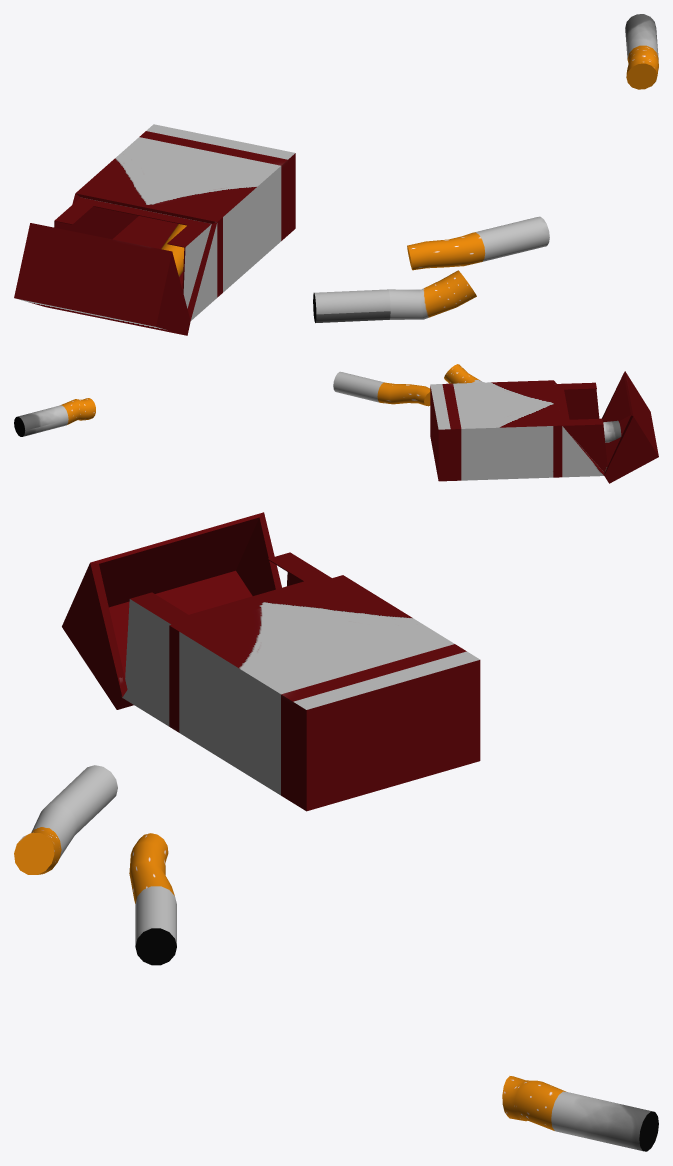
The model's file is tupakat.fbx.
3 views of the same model, one above another, from view 1: azimuth 30°, elevation 25°; view 2: azimuth 150°, elevation 25°; view 3: azimuth 270°, elevation 25° (orthographic). The views are drawn at different scales.
Visible parts, largest first — view 1: ASKI, TUPAKKA2, TUPAKKA4, TUPAKKA3, TUPAKKA1; view 2: ASKI, TUPAKKA4, TUPAKKA3, TUPAKKA2, TUPAKKA1; view 3: ASKI, TUPAKKA3, TUPAKKA2, TUPAKKA4.
Boxes of the visible parts, x1,y1,x2,y2 form: ASKI: (14, 124, 295, 335); TUPAKKA2: (313, 270, 476, 322); TUPAKKA4: (407, 216, 549, 270); TUPAKKA3: (625, 14, 658, 89); TUPAKKA1: (161, 224, 186, 276); ASKI: (430, 371, 658, 483); TUPAKKA4: (333, 371, 430, 406); TUPAKKA3: (14, 398, 95, 436); TUPAKKA2: (444, 364, 484, 383); TUPAKKA1: (603, 420, 621, 442); ASKI: (62, 512, 480, 811); TUPAKKA3: (502, 1076, 658, 1151); TUPAKKA2: (14, 765, 117, 874); TUPAKKA4: (129, 833, 176, 965).
Bounding box in the file's own units: 0.3688 × 0.0496 × 0.194.
Materials: 2 (2 with a texture image).
